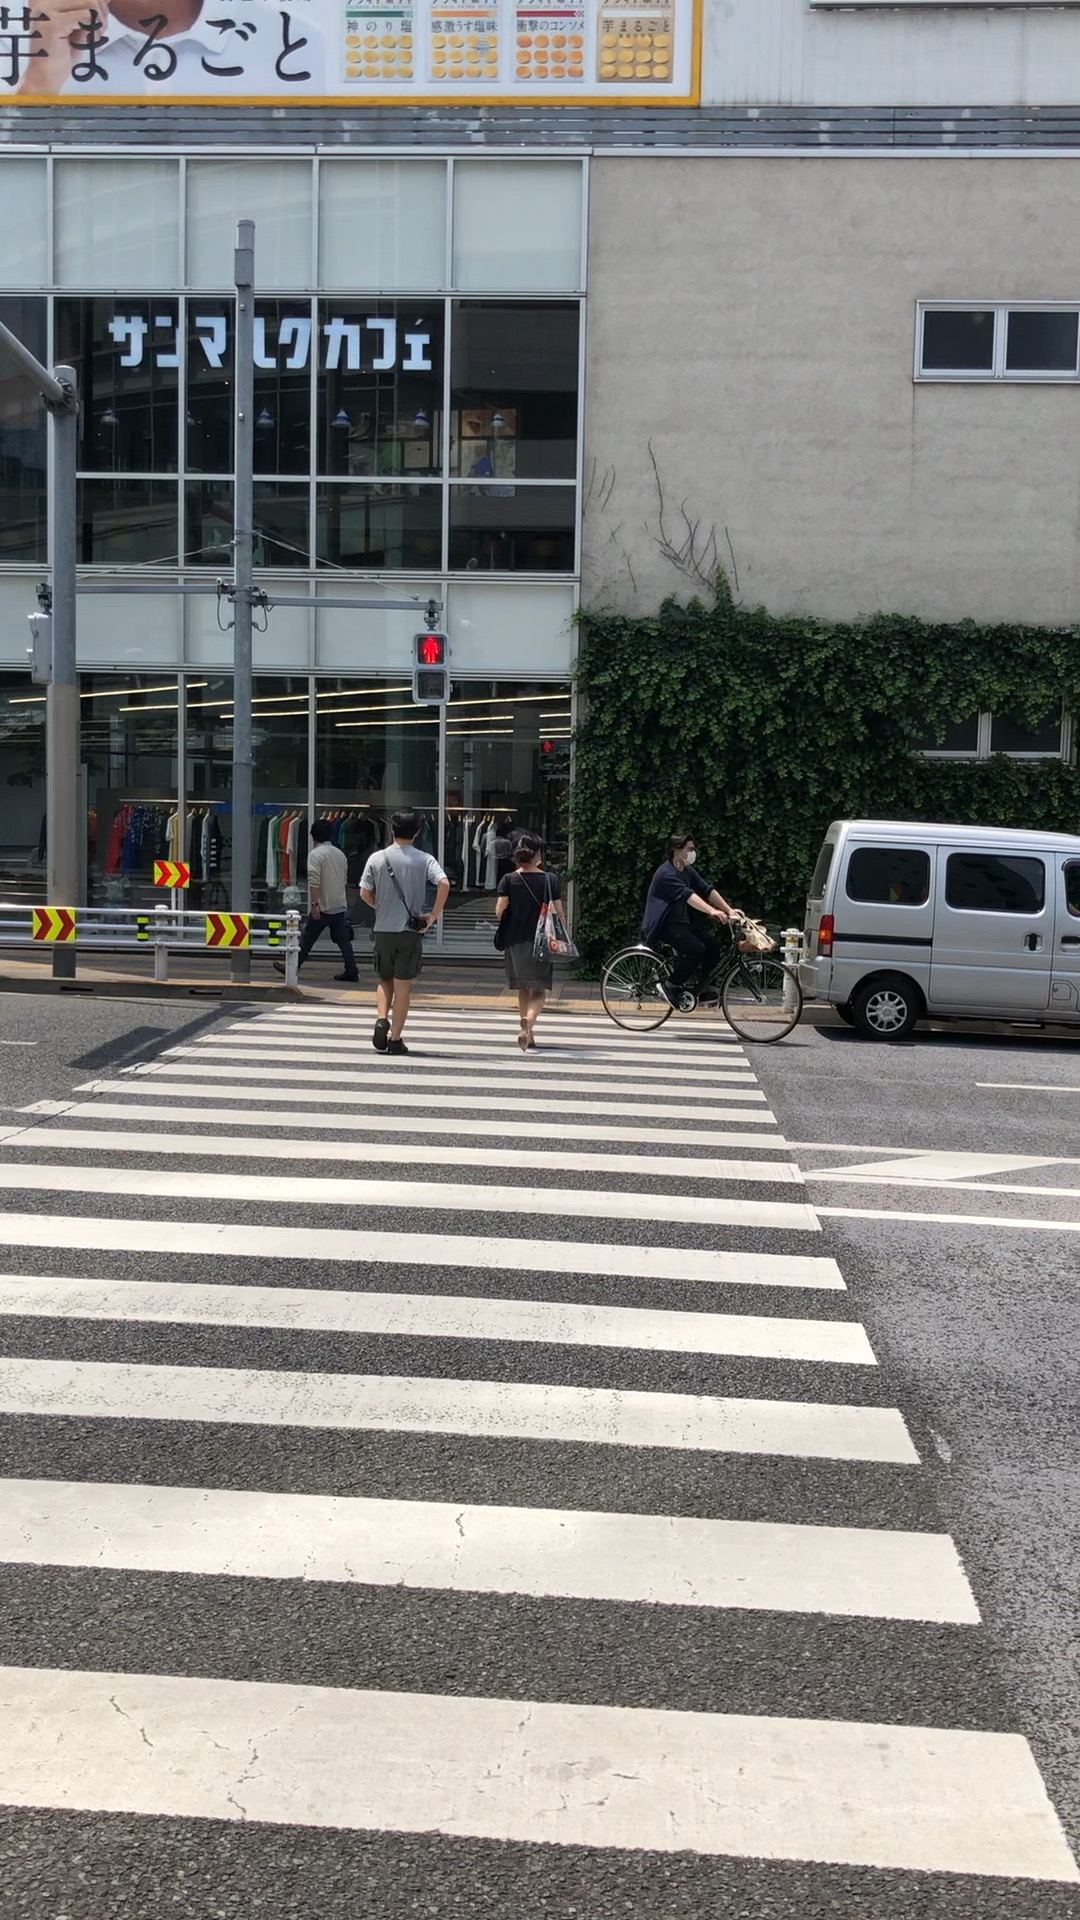red: (409, 630, 448, 704)
